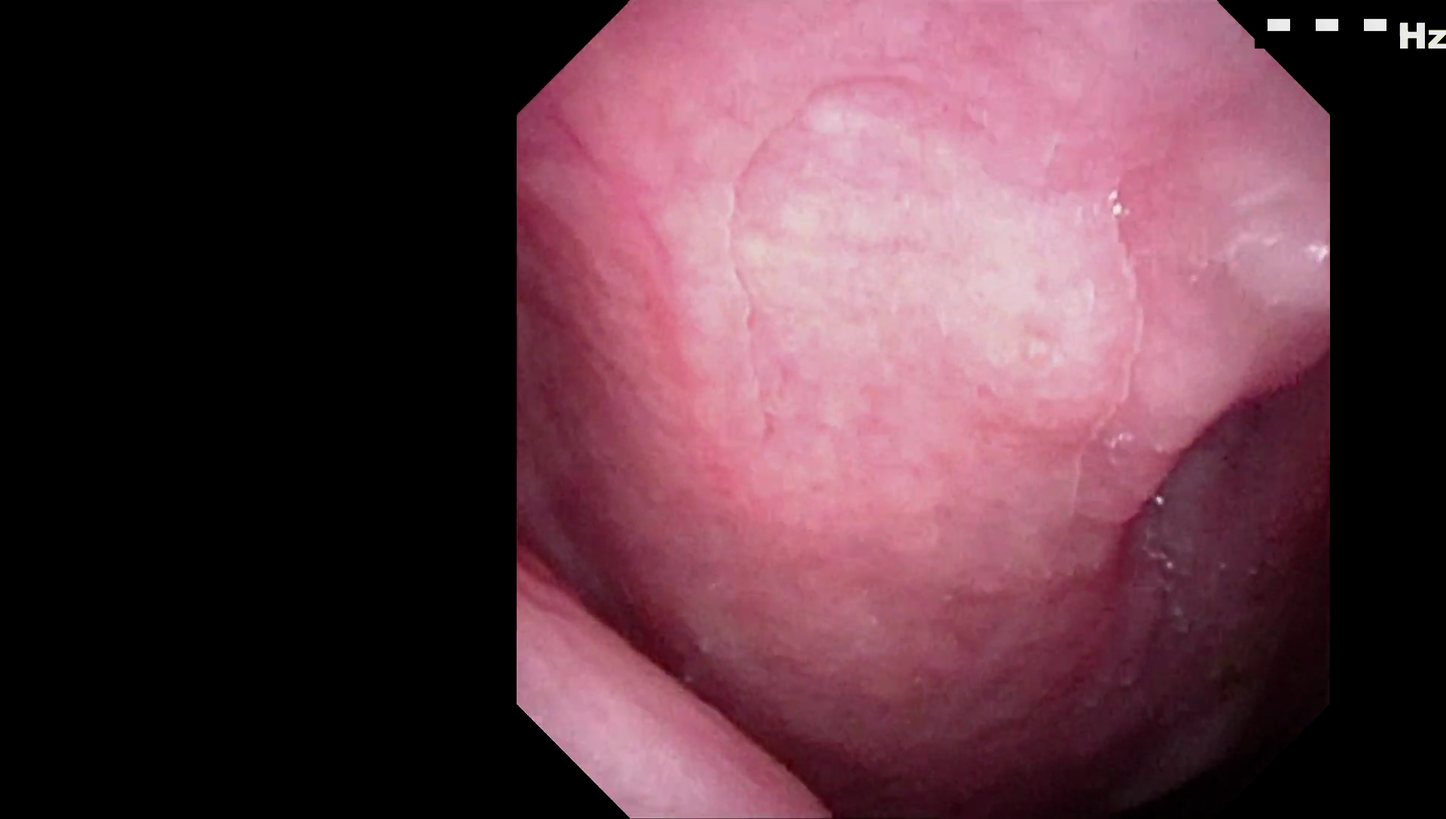close_wall: (675, 63, 1162, 529)
next: (1126, 647, 1317, 812)
